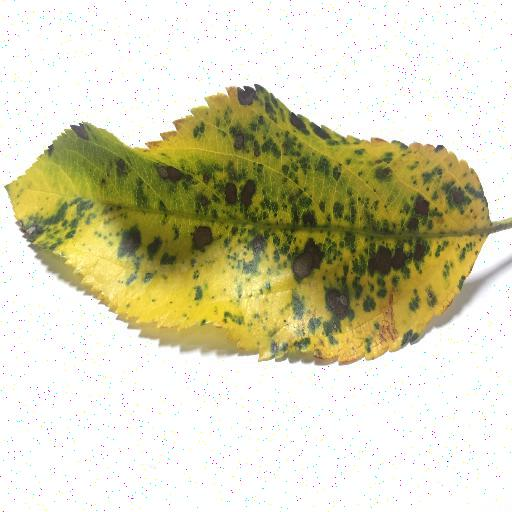Brown_Spot: (377, 296, 406, 354), (364, 243, 418, 274), (219, 180, 264, 207), (289, 241, 320, 280), (445, 185, 482, 212), (323, 287, 351, 320), (156, 166, 187, 184), (415, 194, 434, 221), (184, 226, 210, 245), (239, 88, 256, 112)
